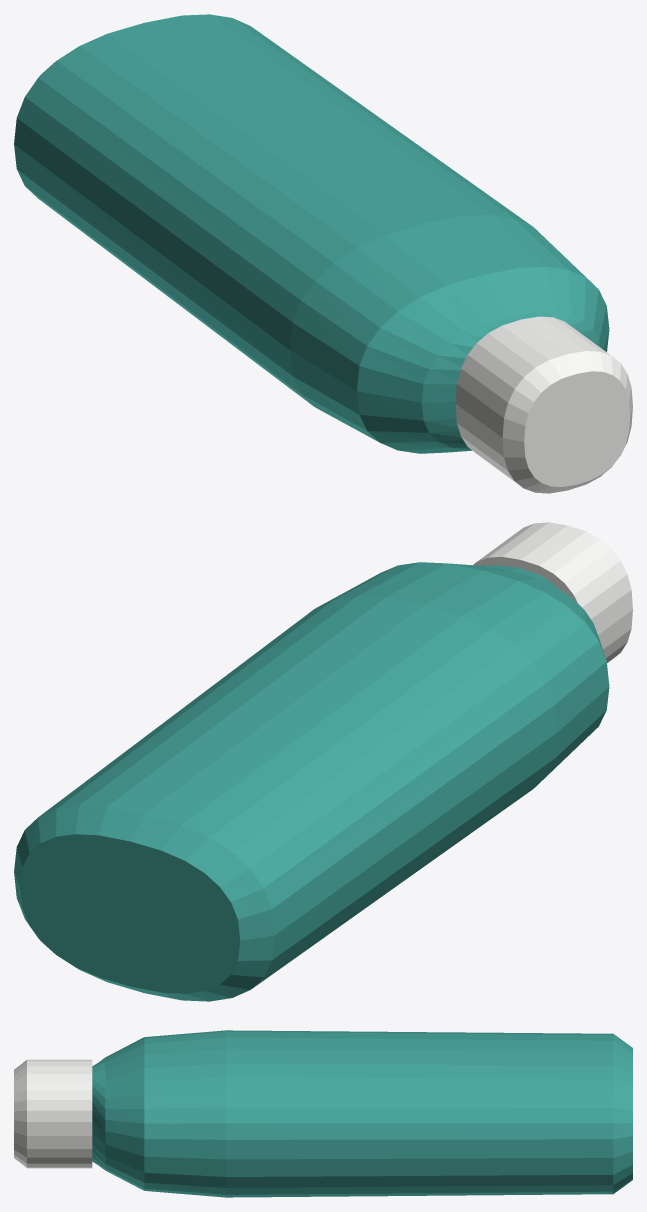
Rendered from shampoo_350ml.obj.
The picture shows the model from 3 angles, top to bottom: view 1: azimuth 30°, elevation 25°; view 2: azimuth 150°, elevation 25°; view 3: azimuth 270°, elevation 25°; orthographic projection. The views are drawn at different scales.
Parts seen in each view (by area): view 1: shampoo_350ml_frasco, shampoo_350ml_tampa; view 2: shampoo_350ml_frasco, shampoo_350ml_tampa; view 3: shampoo_350ml_frasco, shampoo_350ml_tampa.
Boxes of the visible parts, left/top/right/bottom form: shampoo_350ml_frasco: left=14, top=14, right=609, bottom=453; shampoo_350ml_tampa: left=455, top=316, right=632, bottom=493; shampoo_350ml_frasco: left=14, top=562, right=609, bottom=1001; shampoo_350ml_tampa: left=473, top=522, right=632, bottom=662; shampoo_350ml_frasco: left=92, top=1030, right=632, bottom=1197; shampoo_350ml_tampa: left=14, top=1059, right=92, bottom=1168.
Size of the model in its own units: 66 by 44 by 190.
